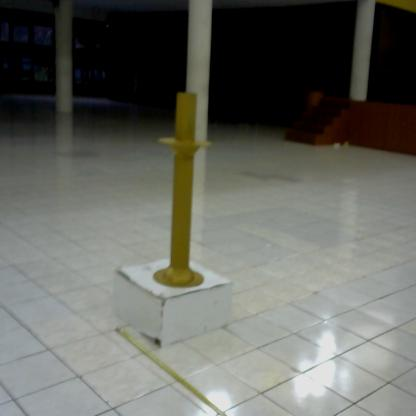pole: (151, 89, 217, 289)
